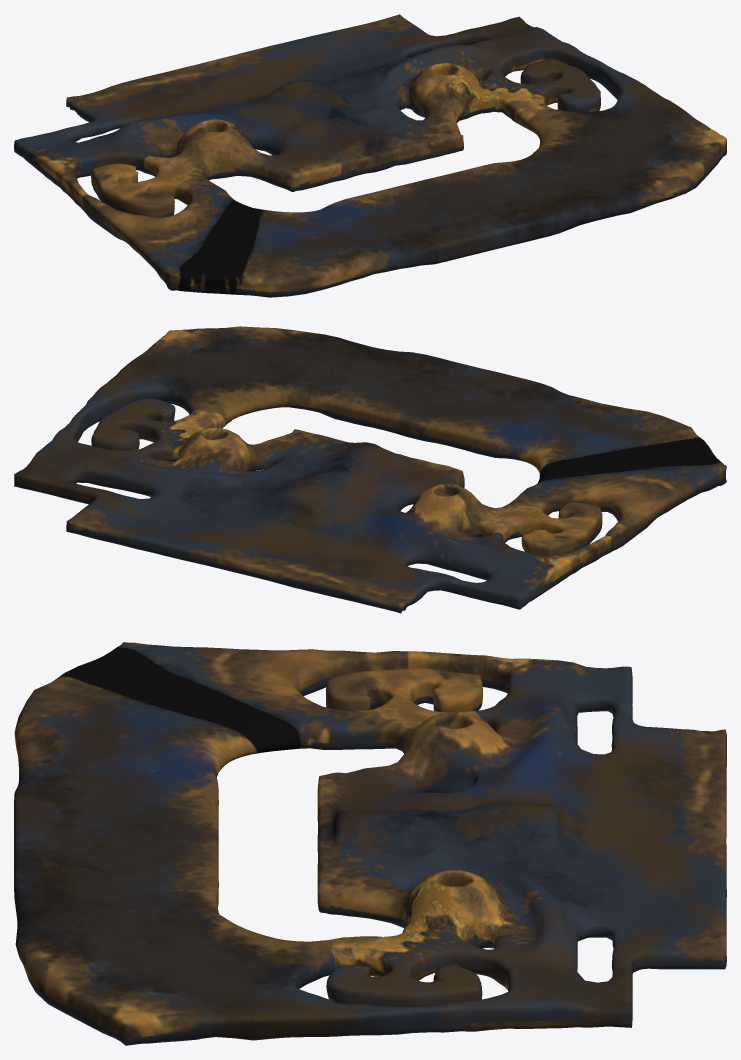
Rendered from maskFinalTexT.fbx.
3 views of the same model, one above another, from view 1: azimuth 30°, elevation 25°; view 2: azimuth 150°, elevation 25°; view 3: azimuth 270°, elevation 25° (orthographic). The views are drawn at different scales.
Visible parts, largest first — view 1: objmask; view 2: objmask; view 3: objmask.
Part boxes in pixels (x1=…): objmask: x1=14, y1=14, x2=726, y2=297; objmask: x1=14, y1=326, x2=726, y2=613; objmask: x1=14, y1=642, x2=726, y2=1045.
Size of the model in its own units: 63.33 by 4.67 by 50.07.
Materials: 1 (1 with a texture image).
